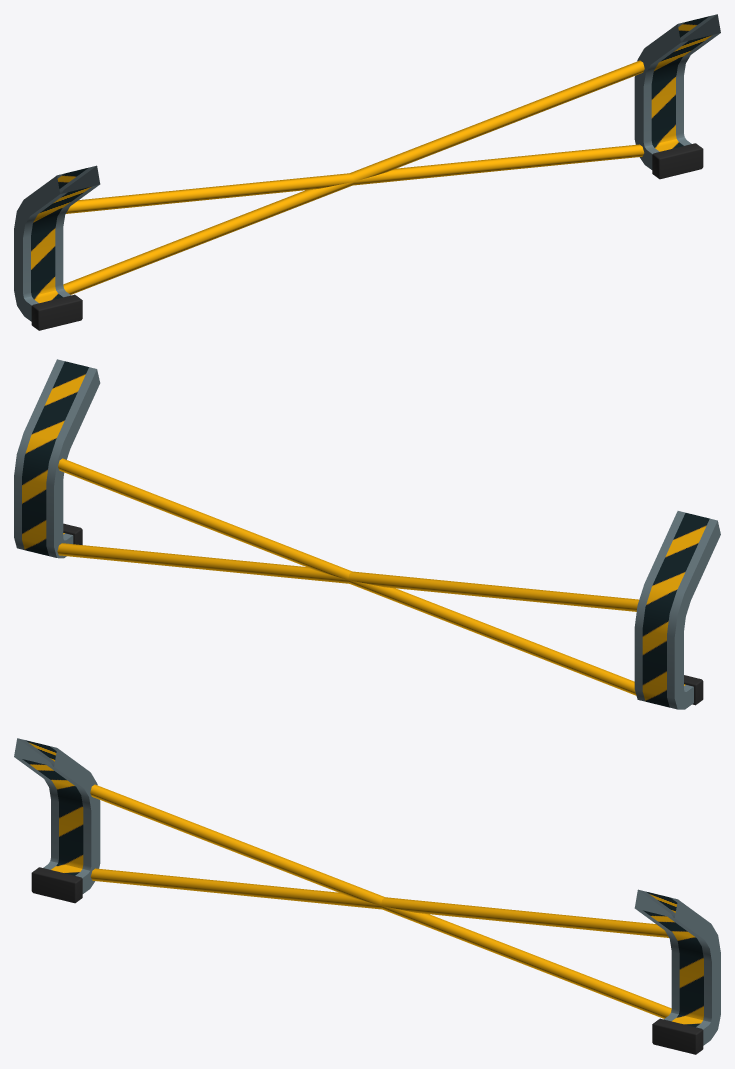
File: Cargo_drone_005_grab_004.fbx
3 renders of one model, top to bottom at view 1: azimuth 30°, elevation 25°; view 2: azimuth 150°, elevation 25°; view 3: azimuth 330°, elevation 25°, orthographic.
Visible parts, largest first — view 1: Cargo_drone_005_grab_004; view 2: Cargo_drone_005_grab_004; view 3: Cargo_drone_005_grab_004.
Boxes of the visible parts, x1,y1,x2,y2 form: Cargo_drone_005_grab_004: (14, 14, 720, 330); Cargo_drone_005_grab_004: (14, 359, 720, 709); Cargo_drone_005_grab_004: (14, 738, 720, 1054).
Bounding box in the file's own units: 341 × 41.02 × 82.04.
